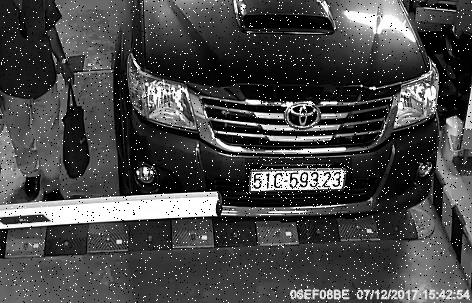License-plate: (247, 158, 355, 199)
